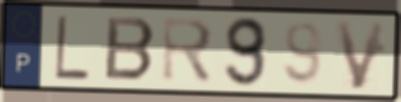9: (221, 14, 269, 90), (281, 20, 325, 87)
B: (102, 14, 159, 84)
L: (53, 12, 92, 83)
R: (160, 15, 218, 87)
V: (331, 19, 390, 93)
